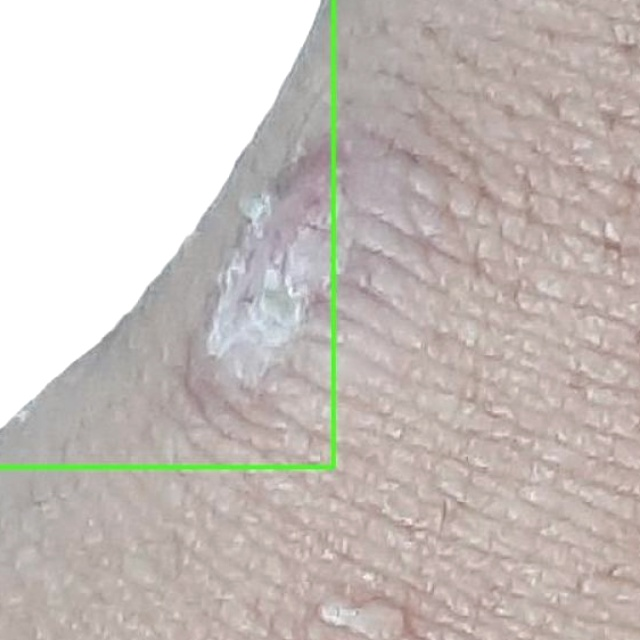Contact Dermatitis: (0, 0, 333, 467)
